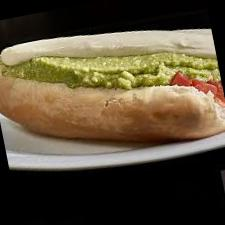Completos: (0, 0, 225, 179)
